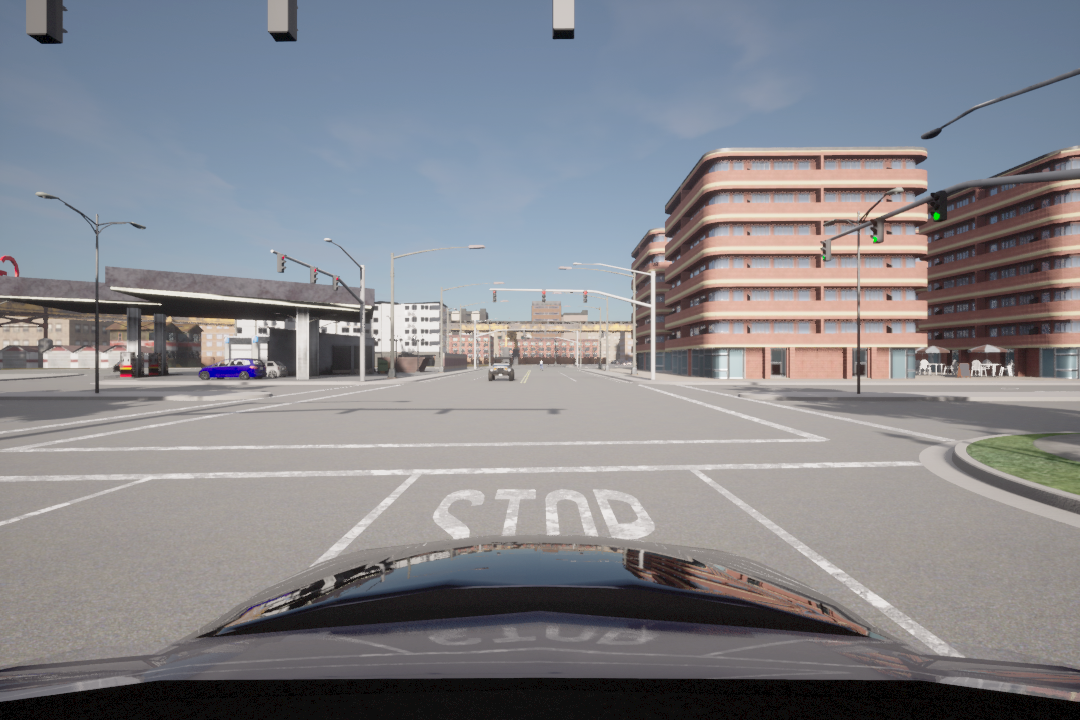TrafficLight: (926, 186, 950, 220), (869, 217, 887, 246), (276, 251, 290, 275), (307, 266, 319, 290), (819, 237, 831, 261), (330, 274, 340, 292), (491, 289, 500, 303), (541, 289, 547, 304), (581, 289, 587, 303)
